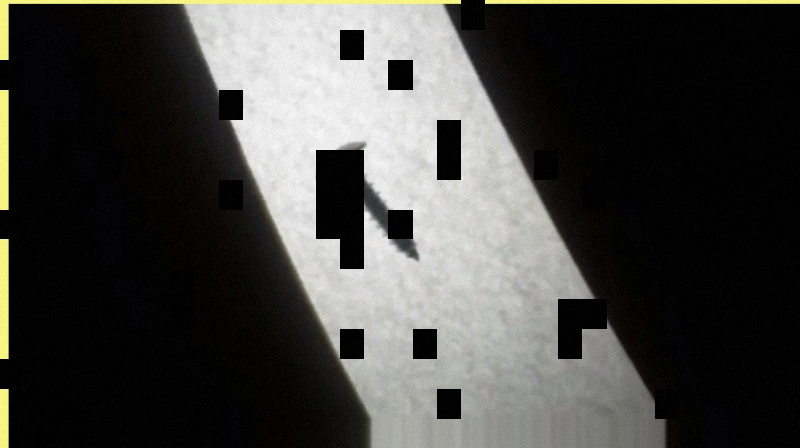S003: (309, 137, 424, 267)
